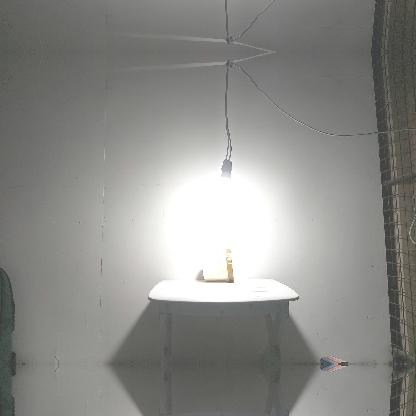Lady-s-Choice: (202, 248, 235, 282)
